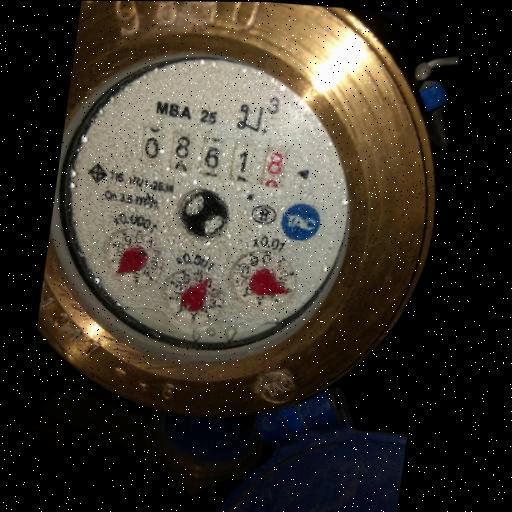0: (139, 124, 165, 166)
1: (227, 139, 258, 184)
6: (196, 134, 225, 178)
8: (258, 144, 289, 190), (169, 130, 196, 172)
border_water_meter_number: (134, 125, 292, 190)
